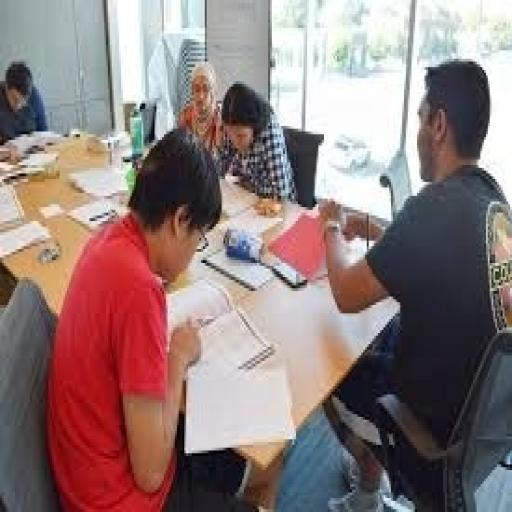sitting: (2, 48, 508, 509), (315, 56, 510, 509)
